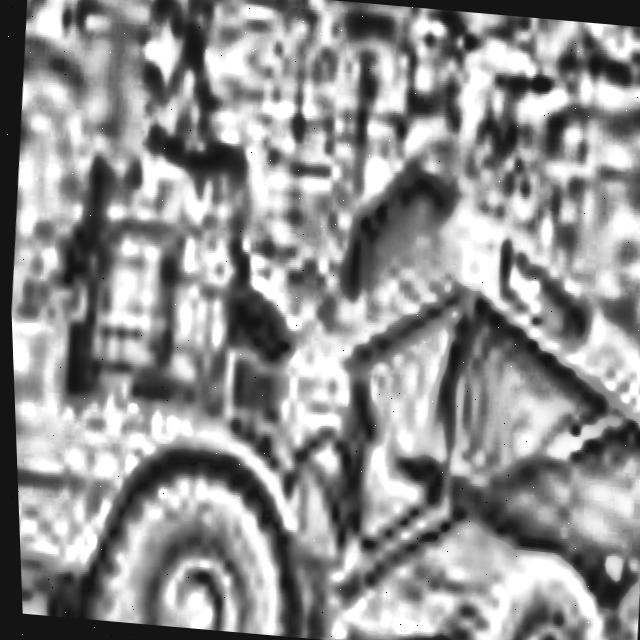dump_truck: (3, 111, 640, 640)
